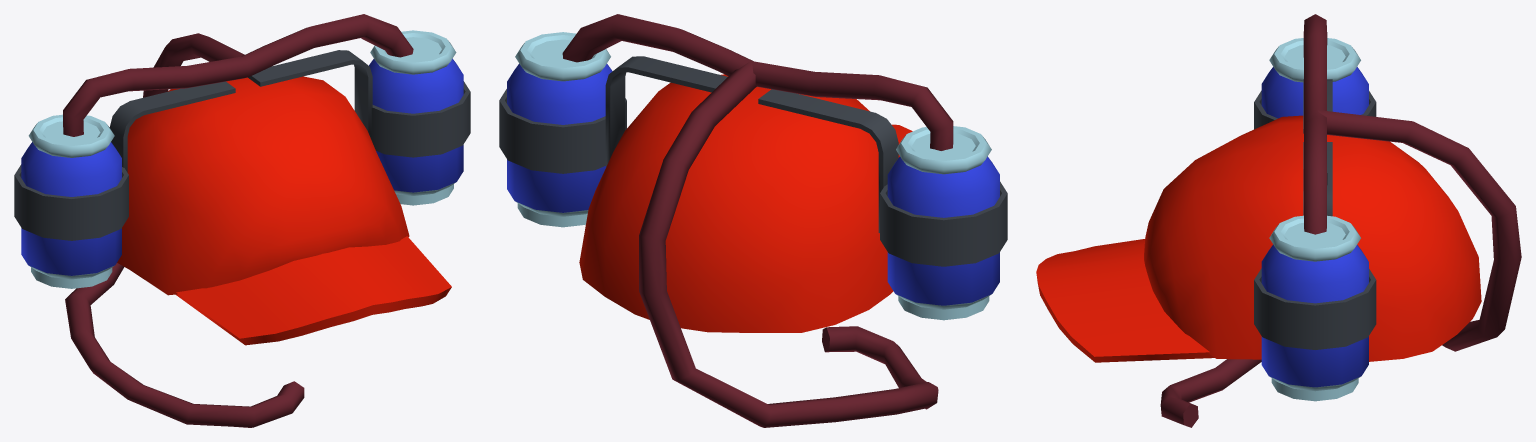
Rendered from Helmet_beer.fbx.
3 views of the same model, side by side, from view 1: azimuth 30°, elevation 25°; view 2: azimuth 150°, elevation 25°; view 3: azimuth 270°, elevation 25° (orthographic). The views are drawn at different scales.
Visible parts, largest first — view 1: Helmet_beer; view 2: Helmet_beer; view 3: Helmet_beer.
Boxes of the visible parts, bbox=[...] form: Helmet_beer: bbox=[14, 14, 470, 427]; Helmet_beer: bbox=[499, 14, 1007, 427]; Helmet_beer: bbox=[1036, 14, 1521, 427].
Size of the model in its own units: 1.04 by 0.7354 by 0.9282.
